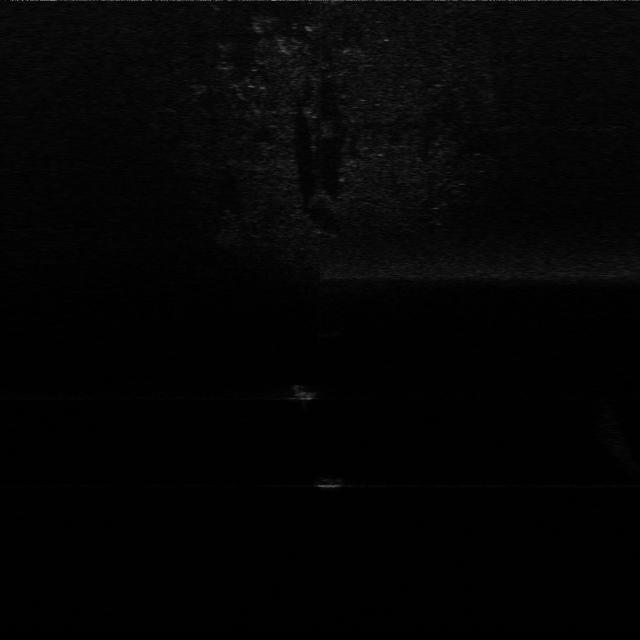cube: (312, 470, 357, 492)
square cage: (284, 379, 327, 405)
